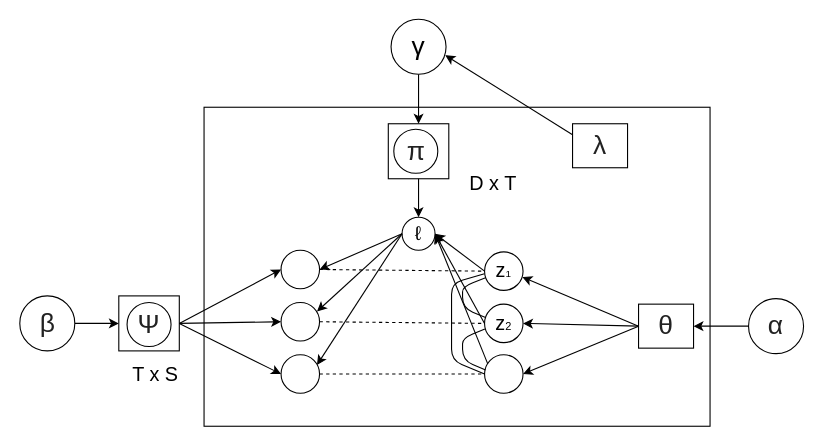
This 823x446 diagram has some shape labels left out. Each missing label, with the centre of its shape:
"w 1" goes at [300,269].
"w 2" goes at [300,321].
"w 3" goes at [300,373].
"z 3" goes at [503,373].
